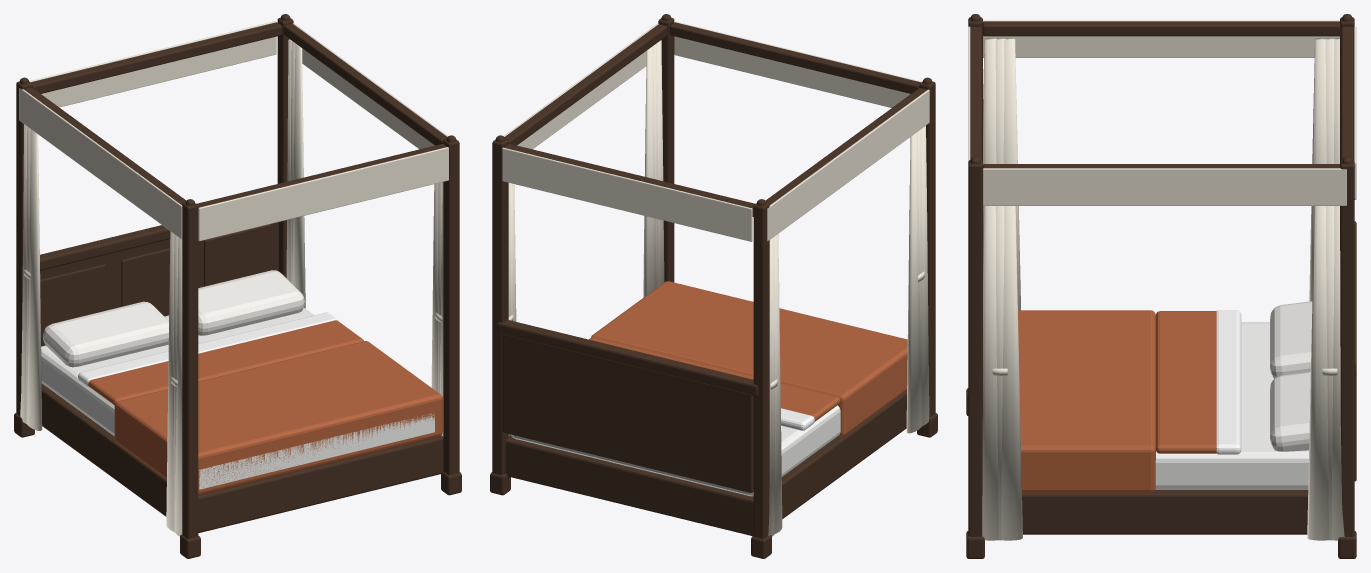
File: bedCanopy.glb
3 renders of one model, left to right at view 1: azimuth 30°, elevation 25°; view 2: azimuth 150°, elevation 25°; view 3: azimuth 270°, elevation 25°, orthographic. The views are drawn at different scales.
Parts seen in each view (by area): view 1: bedCanopy, duvet_flap; view 2: bedCanopy, duvet_flap; view 3: bedCanopy, duvet_flap.
Boxes of the visible parts, x1=… form: bedCanopy: x1=14, y1=14, x2=461, y2=558; duvet_flap: x1=78, y1=312, x2=363, y2=405; bedCanopy: x1=490, y1=14, x2=937, y2=558; duvet_flap: x1=589, y1=337, x2=840, y2=430; bedCanopy: x1=966, y1=14, x2=1356, y2=558; duvet_flap: x1=1156, y1=310, x2=1241, y2=454.
Bounding box in the file's own units: 1.73 × 2.13 × 1.9.
